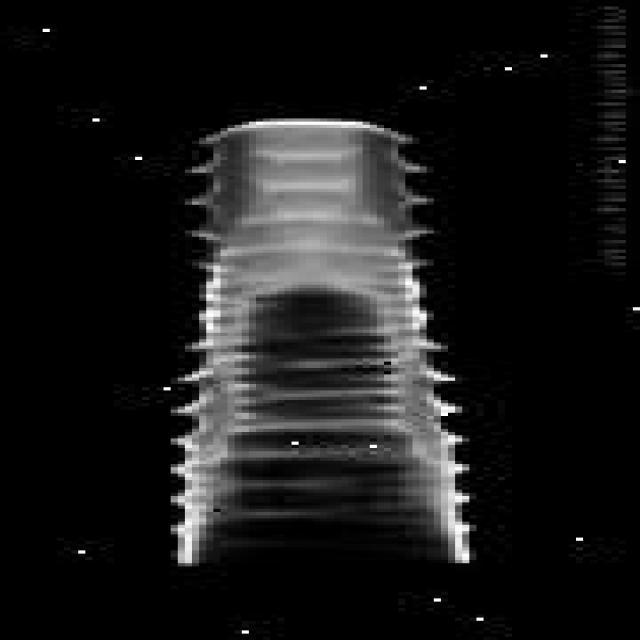Titan Implant Implant: (173, 108, 476, 563)
